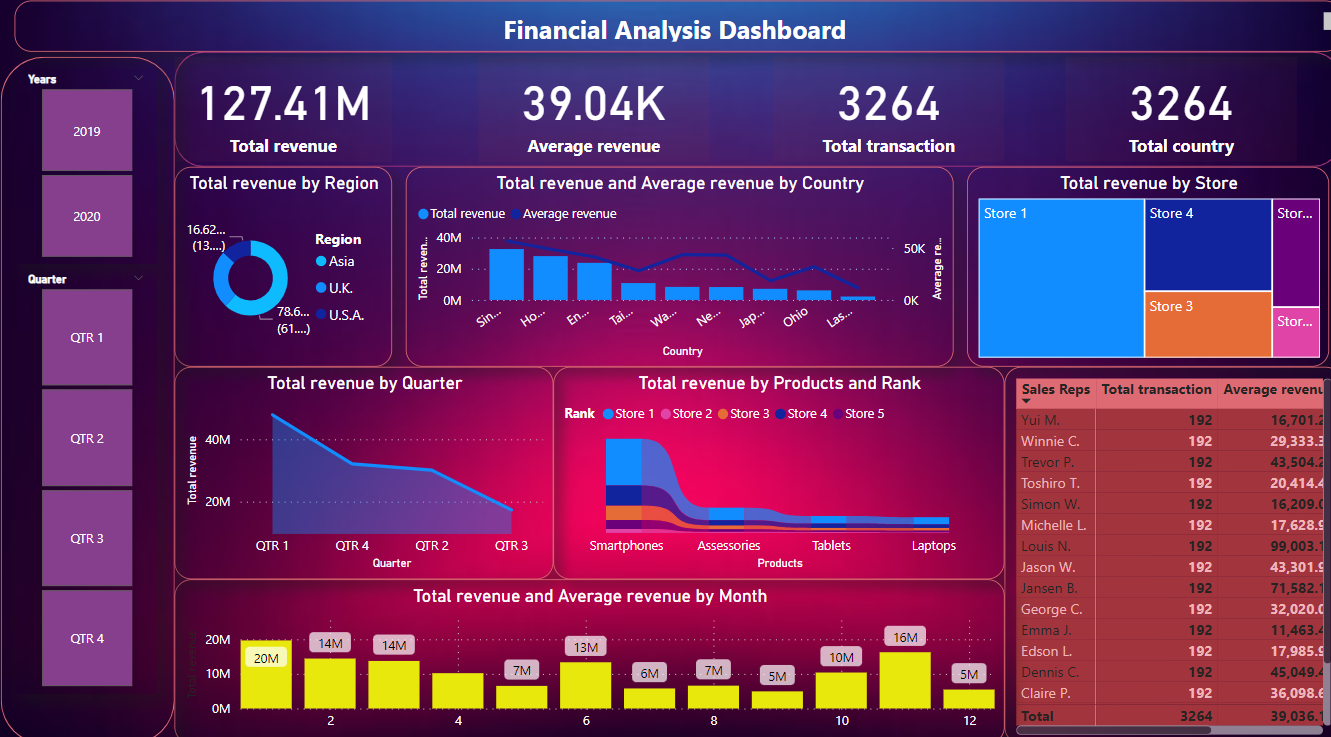

The page's visual inventory and layout, read from the dashboard file:
{"tool":"powerbi","page":{"name":"Page 1","canvas":[1280,720],"ordinal":0},"visuals":[{"type":"textbox","box":[16.7,11.9,1263.9,48.8],"z":0},{"type":"shape","box":[169,60.7,1111.5,109.5],"z":1000},{"type":"card","fields":{"Values":["Measures (2).Total revenue"]},"box":[169,65.5,207.1,100],"z":2000},{"type":"card","fields":{"Values":["Measures (2).Average revenue"]},"box":[458.2,65.5,220.2,100],"z":3000},{"type":"card","fields":{"Values":["Measures (2).Total transaction"]},"box":[739,65.5,220.2,100],"z":4000},{"type":"card","fields":{"Values":["Measures (2).Total country"]},"box":[1017.5,65.5,220.2,100],"z":5000},{"type":"donutChart","fields":{"Y":["Measures (2).Total revenue"],"Category":["Sheet1.Region"]},"box":[169,170.2,207.1,190.4],"z":6000},{"type":"lineStackedColumnComboChart","fields":{"Category":["Sheet1.Country"],"Y":["Measures (2).Total revenue"],"Y2":["Measures (2).Average revenue"]},"box":[389.2,170.2,521.3,190.4],"z":7000},{"type":"treemap","title":"Total revenue by Store","fields":{"Group":["Sheet1.Rank"],"Values":["Measures (2).Total revenue"]},"box":[923.5,170.2,345.1,190.4],"z":8000},{"type":"areaChart","fields":{"Y":["Measures (2).Total revenue"],"Category":["Sheet1.Quarter"]},"box":[169,360.6,360.6,202.3],"z":9000},{"type":"ribbonChart","fields":{"Category":["Sheet1.Products"],"Y":["Measures (2).Total revenue"],"Series":["Sheet1.Rank"]},"box":[529.6,360.6,429.6,202.3],"z":10000},{"type":"pivotTable","fields":{"Rows":["Sheet1.Sales Reps"],"Values":["Measures (2).Total transaction","Measures (2).Average revenue","Measures (2).Total revenue"]},"box":[959.2,360.6,321.3,359.4],"z":11000},{"type":"lineClusteredColumnComboChart","fields":{"Category":["Sheet1.Month"],"Y":["Measures (2).Total revenue"]},"box":[169,562.9,790.2,157.1],"z":12000},{"type":"shape","box":[3.6,65.5,165.4,654.5],"z":13000},{"type":"slicer","fields":{"Values":["Sheet1.Years"]},"box":[16.7,75,135.7,188],"z":14000},{"type":"slicer","fields":{"Values":["Sheet1.Quarter"]},"box":[16.5,264.8,135.8,406.2],"z":15000}]}

Visuals, with their boxes in screenshot pixels (x1, y1, x2, y2), scaled from the page's 1280x720 canvas onto the 1331x737 screenshot:
textbox: x1=17, y1=12, x2=1330, y2=62
shape: x1=176, y1=62, x2=1330, y2=174
card - Measures (2).Total revenue: x1=176, y1=67, x2=391, y2=169
card - Measures (2).Average revenue: x1=476, y1=67, x2=705, y2=169
card - Measures (2).Total transaction: x1=768, y1=67, x2=997, y2=169
card - Measures (2).Total country: x1=1058, y1=67, x2=1287, y2=169
donutChart - Measures (2).Total revenue x Sheet1.Region: x1=176, y1=174, x2=391, y2=369
lineStackedColumnComboChart - Sheet1.Country x Measures (2).Total revenue: x1=405, y1=174, x2=947, y2=369
"Total revenue by Store" treemap: x1=960, y1=174, x2=1319, y2=369
areaChart - Measures (2).Total revenue x Sheet1.Quarter: x1=176, y1=369, x2=551, y2=576
ribbonChart - Sheet1.Products x Measures (2).Total revenue: x1=551, y1=369, x2=997, y2=576
pivotTable - Sheet1.Sales Reps x Measures (2).Total transaction: x1=997, y1=369, x2=1330, y2=736
lineClusteredColumnComboChart - Sheet1.Month x Measures (2).Total revenue: x1=176, y1=576, x2=997, y2=736
shape: x1=4, y1=67, x2=176, y2=736
slicer - Sheet1.Years: x1=17, y1=77, x2=158, y2=269
slicer - Sheet1.Quarter: x1=17, y1=271, x2=158, y2=687
